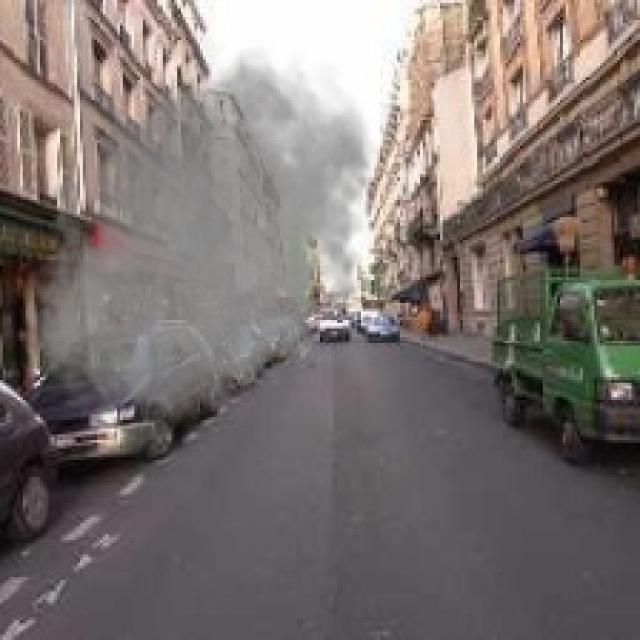smoke: (28, 34, 383, 434)
